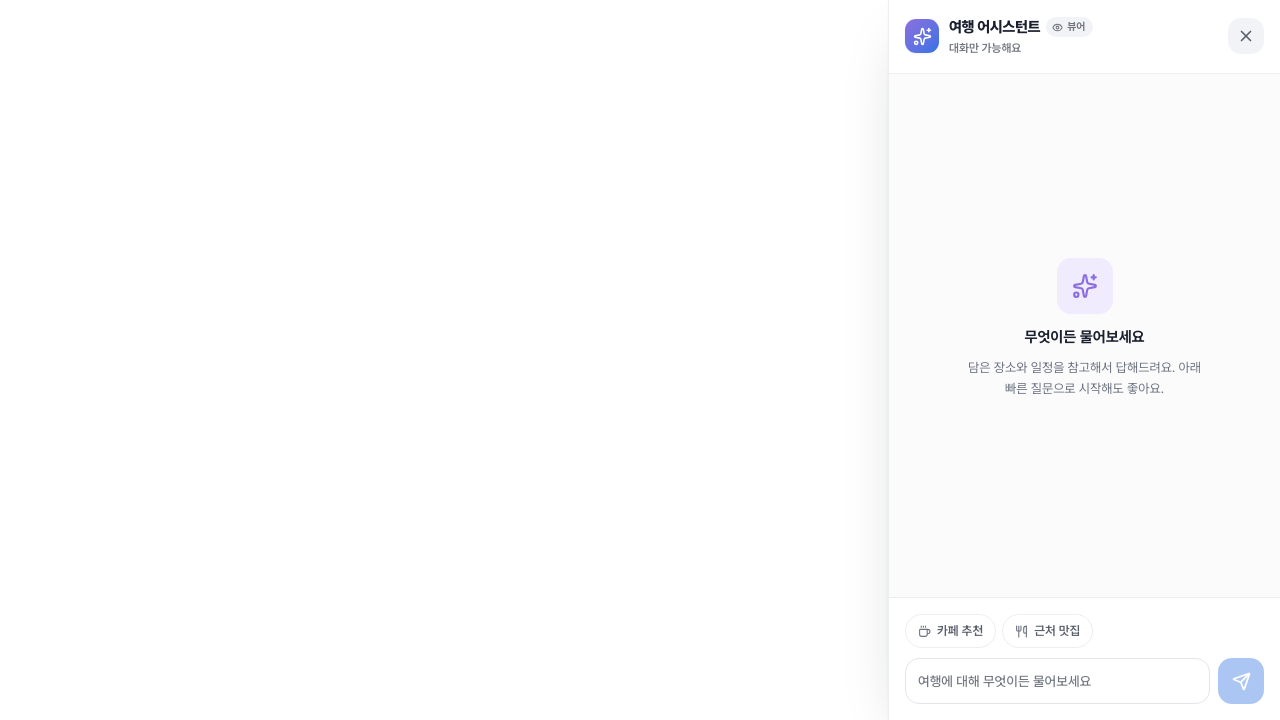
Test: AssistantPanel — 추천 카드 (Phase 3 grounding) › ★ viewer 는 카드는 보되 액션 버튼이 없다(기획 §7.1)
The width and height of the screenshot is (1280, 720).
Click the button "카페 추천": (951, 631) [905,614,996,648]
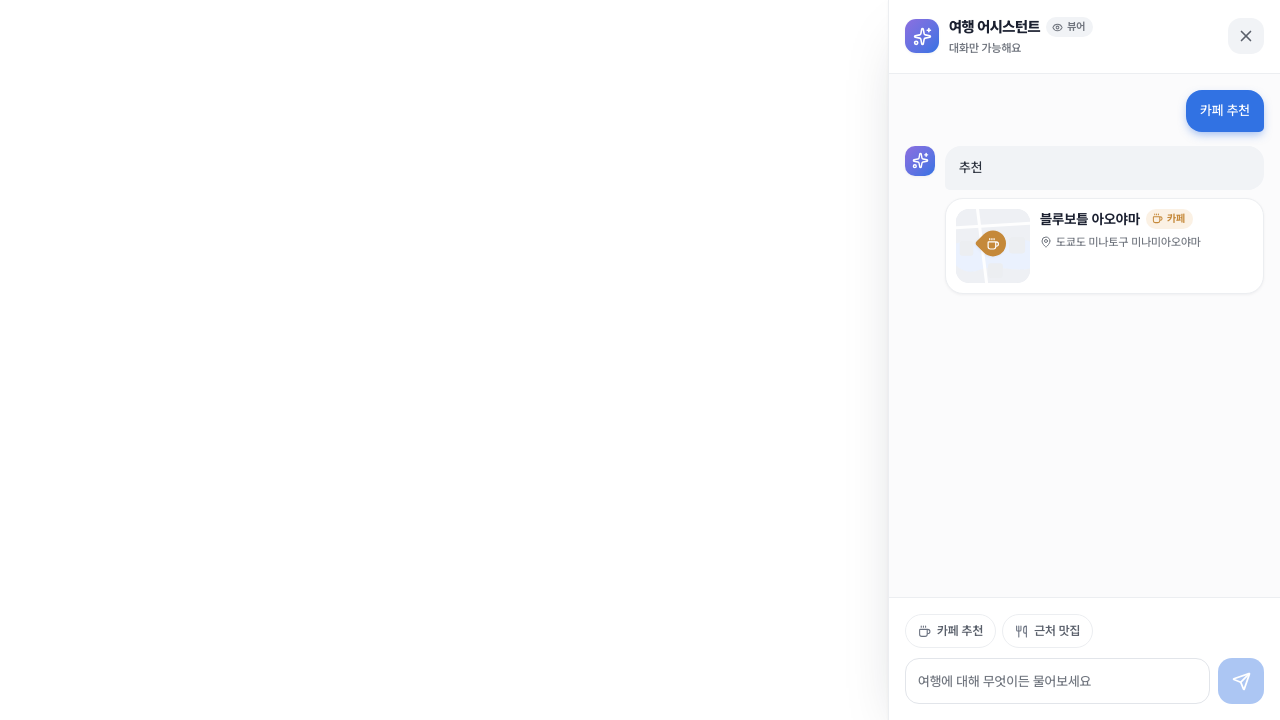
Expected: the text "블루보틀 아오야마" is shown, [1040,209,1140,229]
